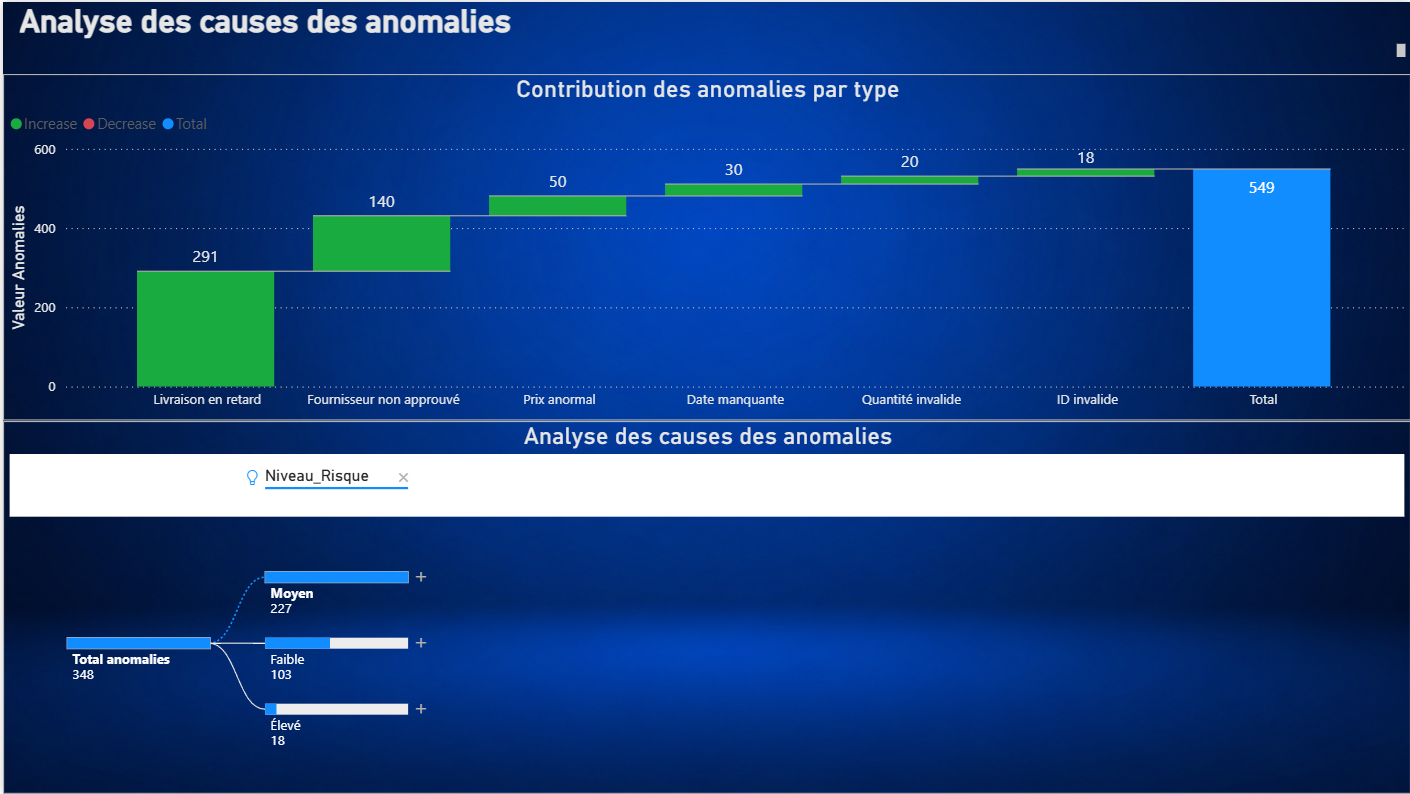

Layout of this report page (visuals, bound fields, positions):
{"tool":"powerbi","page":{"name":"Analyse des causes des anomalies","canvas":[1280,720],"ordinal":2},"visuals":[{"type":"textbox","title":"Analyse des causes des anomalies","box":[9.7,0,1270.3,55.1],"z":0},{"type":"waterfallChart","title":"Contribution des anomalies par type","fields":{"Category":["Types_Anomalies.Type"],"Y":["Commandes_achat.Valeur Anomalies"]},"box":[0,65.5,1280,315.5],"z":1000},{"type":"decompositionTreeVisual","title":"Analyse des causes des anomalies","fields":{"Analyze":["Commandes_achat.Total anomalies"],"ExplainBy":["Fournisseurs.Niveau_Risque","Commandes_achat.Usine","Commandes_achat.Acheteur","Fournisseurs.Nom_Fournisseur"]},"box":[0,380.9,1280,339.1],"z":2000}]}

Visuals, with their boxes in screenshot pixels (x1, y1, x2, y2), scaled from the page's 1280x720 canvas onto the 1410x794 screenshot:
"Analyse des causes des anomalies" textbox: <region>11, 0, 1409, 61</region>
"Contribution des anomalies par type" waterfallChart: <region>0, 72, 1409, 420</region>
"Analyse des causes des anomalies" decompositionTreeVisual: <region>0, 420, 1409, 793</region>
